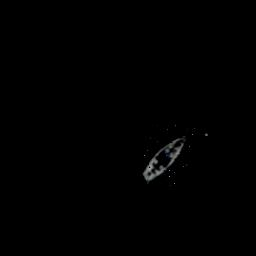boat: (138, 121, 195, 191)
